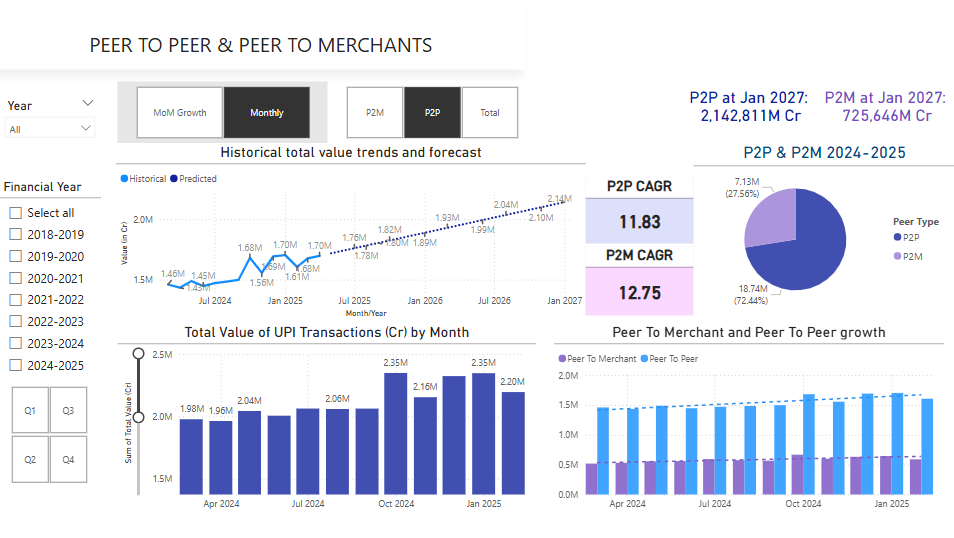

Layout of this report page (visuals, bound fields, positions):
{"tool":"powerbi","page":{"name":"P2P & P2M Metrics","canvas":[1280,720],"ordinal":2},"visuals":[{"type":"lineChart","title":"Historical total value trends and forecast","fields":{"Y":["Peer Table.PeerDynamic_Value"],"Category":["Peer to.ds"],"Series":["DF Peer to.DataType"]},"box":[160,191.7,626.7,236.7],"z":0},{"type":"slicer","fields":{"Values":["Trend Measures.Measures"]},"box":[162,110,280,82],"z":1000},{"type":"slicer","fields":{"Values":["Peer Type.Peer Type"]},"box":[442,110,278,82],"z":2000},{"type":"textbox","box":[0,0,706,94],"z":3000},{"type":"clusteredColumnChart","title":"Total Value of UPI Transactions (Cr) by Month","fields":{"Y":["Sum(DF Peer to.Total Value (Cr))"],"Category":["DF Peer to.ds"]},"box":[162,432,558,258],"z":4000},{"type":"clusteredColumnChart","title":"Peer To Merchant and Peer To Peer growth","fields":{"Y":["Sum(DF Peer to.P2M Value (Cr))","Sum(DF Peer to.P2P Value (Cr))"],"Category":["DF Peer to.ds"]},"box":[744,432,520,258],"z":5000},{"type":"slicer","title":"Financial Year","fields":{"Values":["S FYOptions.Financial Year"]},"box":[0,240,140,270],"z":6000},{"type":"slicer","fields":{"Values":["T TB_QuarterOptions.Quarter (Financial Year)"]},"box":[0,510,140,141.7],"z":7000},{"type":"slicer","fields":{"Values":["S YearOptions.Year"]},"box":[1.7,126.7,140,76.7],"z":8000},{"type":"pieChart","title":"P2P & P2M 2024-2025 ","fields":{"Category":["Ref Peer Type.Peer Type"],"Y":["Assist Peer Table.LatestFYTotalValue"]},"box":[930,192,350,226],"z":9000},{"type":"card","title":"P2P CAGR","fields":{"Values":["Assist Peer Table.P2P_CAGR"]},"box":[786,238,144,88],"z":10000},{"type":"card","title":"P2M CAGR","fields":{"Values":["Assist Peer Table.P2M_CAGR"]},"box":[786,330,144,92],"z":11000},{"type":"card","fields":{"Values":["Assist Peer Table.P2P_Split_2027"]},"box":[908.3,91.7,190,100],"z":12000},{"type":"card","fields":{"Values":["Assist Peer Table.P2MForecastPeak"]},"box":[1090,91.7,190,100],"z":13000}]}

Visuals, with their boxes in screenshot pixels (x1, y1, x2, y2), scaled from the page's 1280x720 canvas onto the 954x538 screenshot:
"Historical total value trends and forecast" lineChart: Rect(119, 143, 586, 320)
slicer - Trend Measures.Measures: Rect(121, 82, 329, 143)
slicer - Peer Type.Peer Type: Rect(329, 82, 537, 143)
textbox: Rect(0, 0, 526, 70)
"Total Value of UPI Transactions (Cr) by Month" clusteredColumnChart: Rect(121, 323, 537, 516)
"Peer To Merchant and Peer To Peer growth" clusteredColumnChart: Rect(555, 323, 942, 516)
"Financial Year" slicer: Rect(0, 179, 104, 381)
slicer - T TB_QuarterOptions.Quarter (Financial Year): Rect(0, 381, 104, 487)
slicer - S YearOptions.Year: Rect(1, 95, 106, 152)
"P2P & P2M 2024-2025 " pieChart: Rect(693, 143, 953, 312)
"P2P CAGR" card: Rect(586, 178, 693, 244)
"P2M CAGR" card: Rect(586, 247, 693, 315)
card - Assist Peer Table.P2P_Split_2027: Rect(677, 69, 819, 143)
card - Assist Peer Table.P2MForecastPeak: Rect(812, 69, 953, 143)
